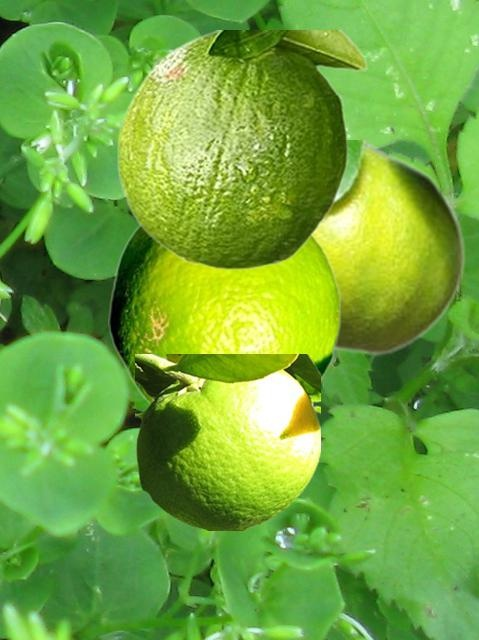dalandan: (116, 30, 367, 269), (108, 225, 340, 403), (315, 140, 465, 355), (135, 354, 319, 529)
